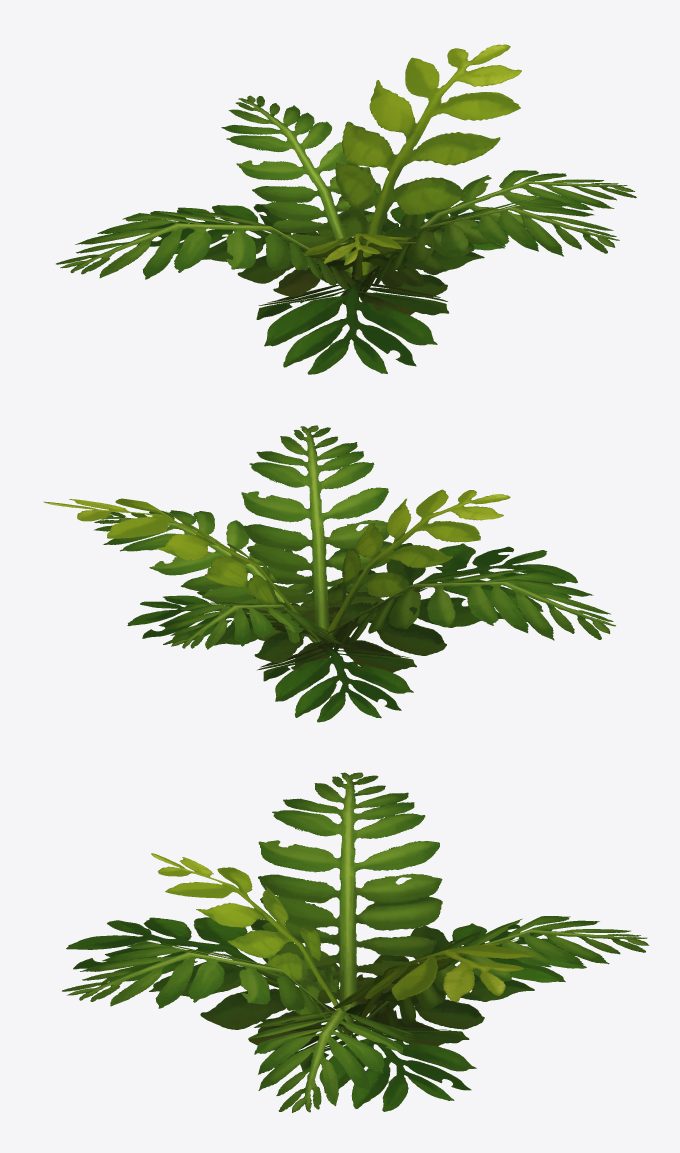
Rendered from sm_plant_02.FBX.
The picture shows the model from 3 angles, top to bottom: view 1: azimuth 30°, elevation 25°; view 2: azimuth 150°, elevation 25°; view 3: azimuth 270°, elevation 25°; orthographic projection. The views are drawn at different scales.
Visible parts, largest first — view 1: sm_plant_02; view 2: sm_plant_02; view 3: sm_plant_02.
Boxes of the visible parts, x1,y1,x2,y2 form: sm_plant_02: (56, 44, 636, 374); sm_plant_02: (44, 425, 615, 722); sm_plant_02: (62, 772, 649, 1112).
Size of the model in its own units: 138 by 120 by 39.79.
